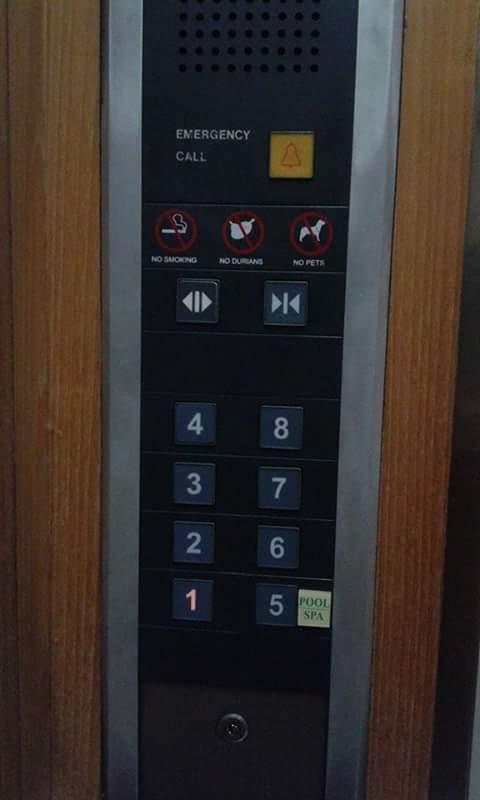1: (169, 576, 213, 622)
2: (169, 519, 215, 565)
3: (170, 460, 215, 505)
4: (171, 399, 215, 445)
5: (253, 580, 297, 626)
6: (253, 522, 300, 569)
7: (253, 463, 302, 510)
8: (257, 404, 303, 452)
alarm: (266, 129, 315, 180)
close: (261, 278, 308, 327)
keyhole: (214, 711, 247, 743)
open: (173, 276, 221, 323)
